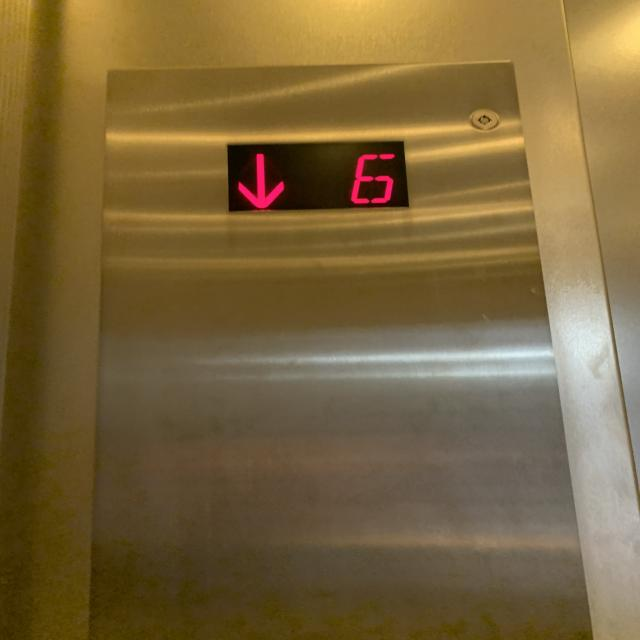box: (223, 138, 417, 216)
